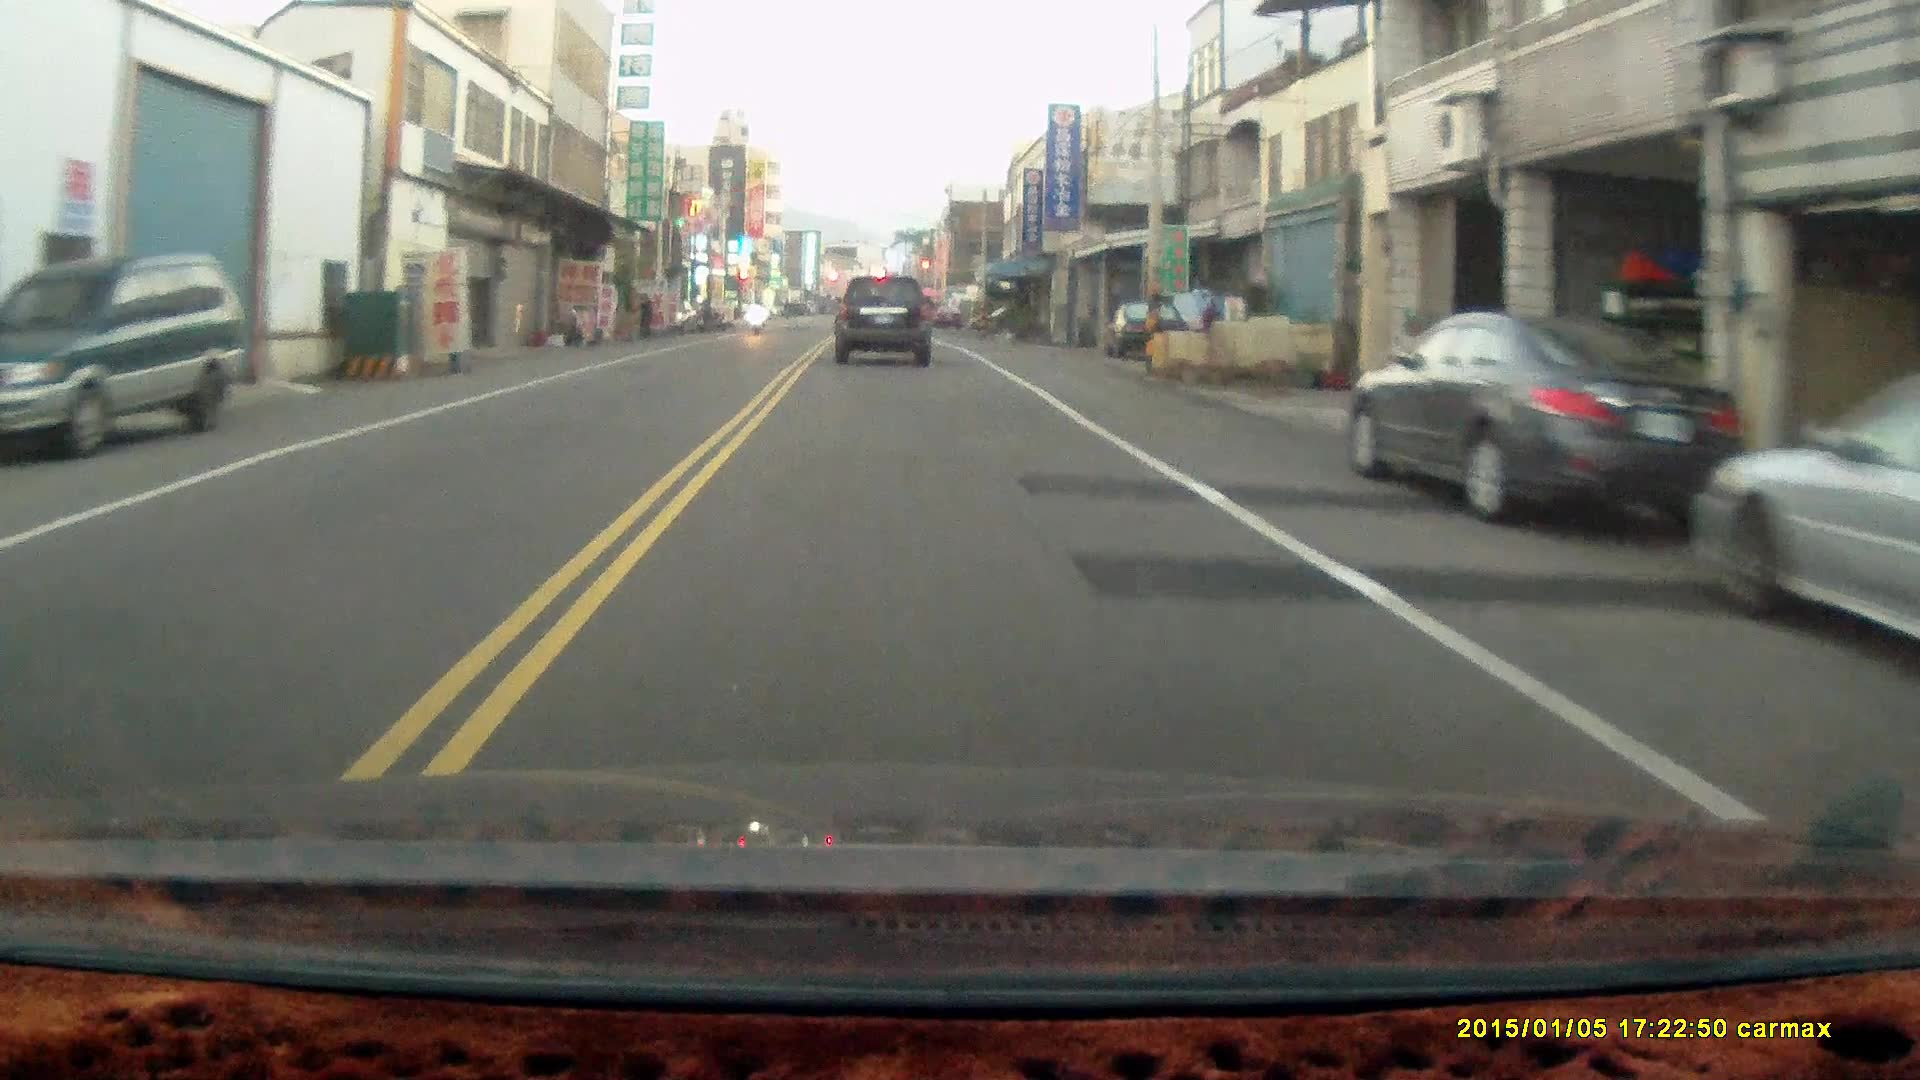pedestrian: (635, 288, 655, 336)
vehicle: (1347, 311, 1753, 533), (1690, 380, 1920, 685), (2, 249, 248, 455), (834, 273, 934, 367), (1104, 302, 1190, 361)
